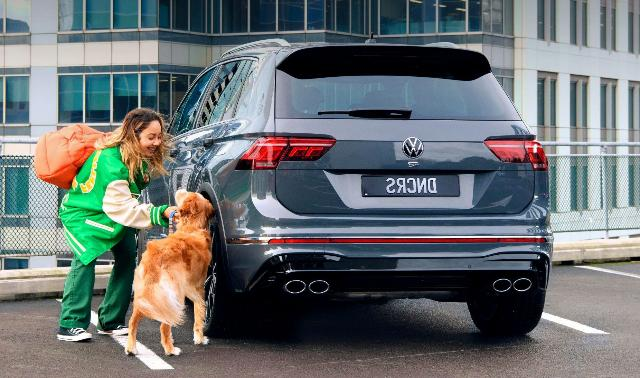Rego: (361, 175, 462, 198)
